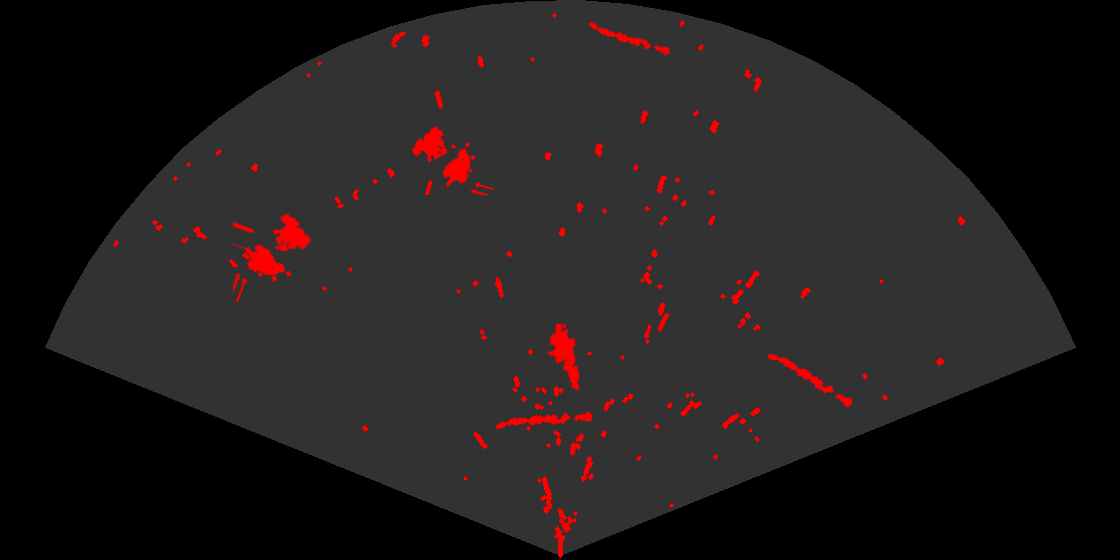cage: (233, 212, 313, 302), (410, 125, 493, 195)
chain: (766, 352, 854, 409), (587, 20, 673, 58), (494, 409, 593, 431)
frogman: (546, 324, 581, 391)
